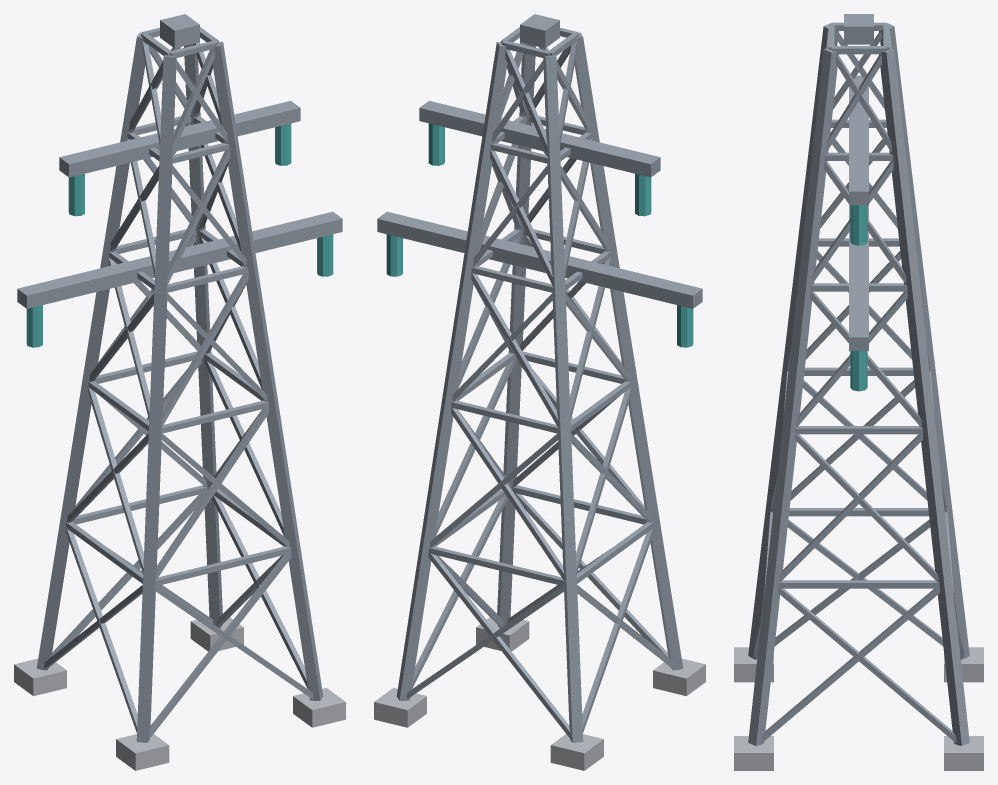
Rendered from PowerPylon.fbx.
3 views of the same model, side by side, from view 1: azimuth 30°, elevation 25°; view 2: azimuth 150°, elevation 25°; view 3: azimuth 270°, elevation 25° (orthographic). The views are drawn at different scales.
Visible parts, largest first — view 1: PowerPylon; view 2: PowerPylon; view 3: PowerPylon.
Boxes of the visible parts, bbox=[...] form: PowerPylon: bbox=[14, 14, 345, 770]; PowerPylon: bbox=[374, 14, 705, 770]; PowerPylon: bbox=[734, 14, 983, 770].
Size of the model in its own units: 15 by 30.8 by 10.
1 material, 1 textured.
